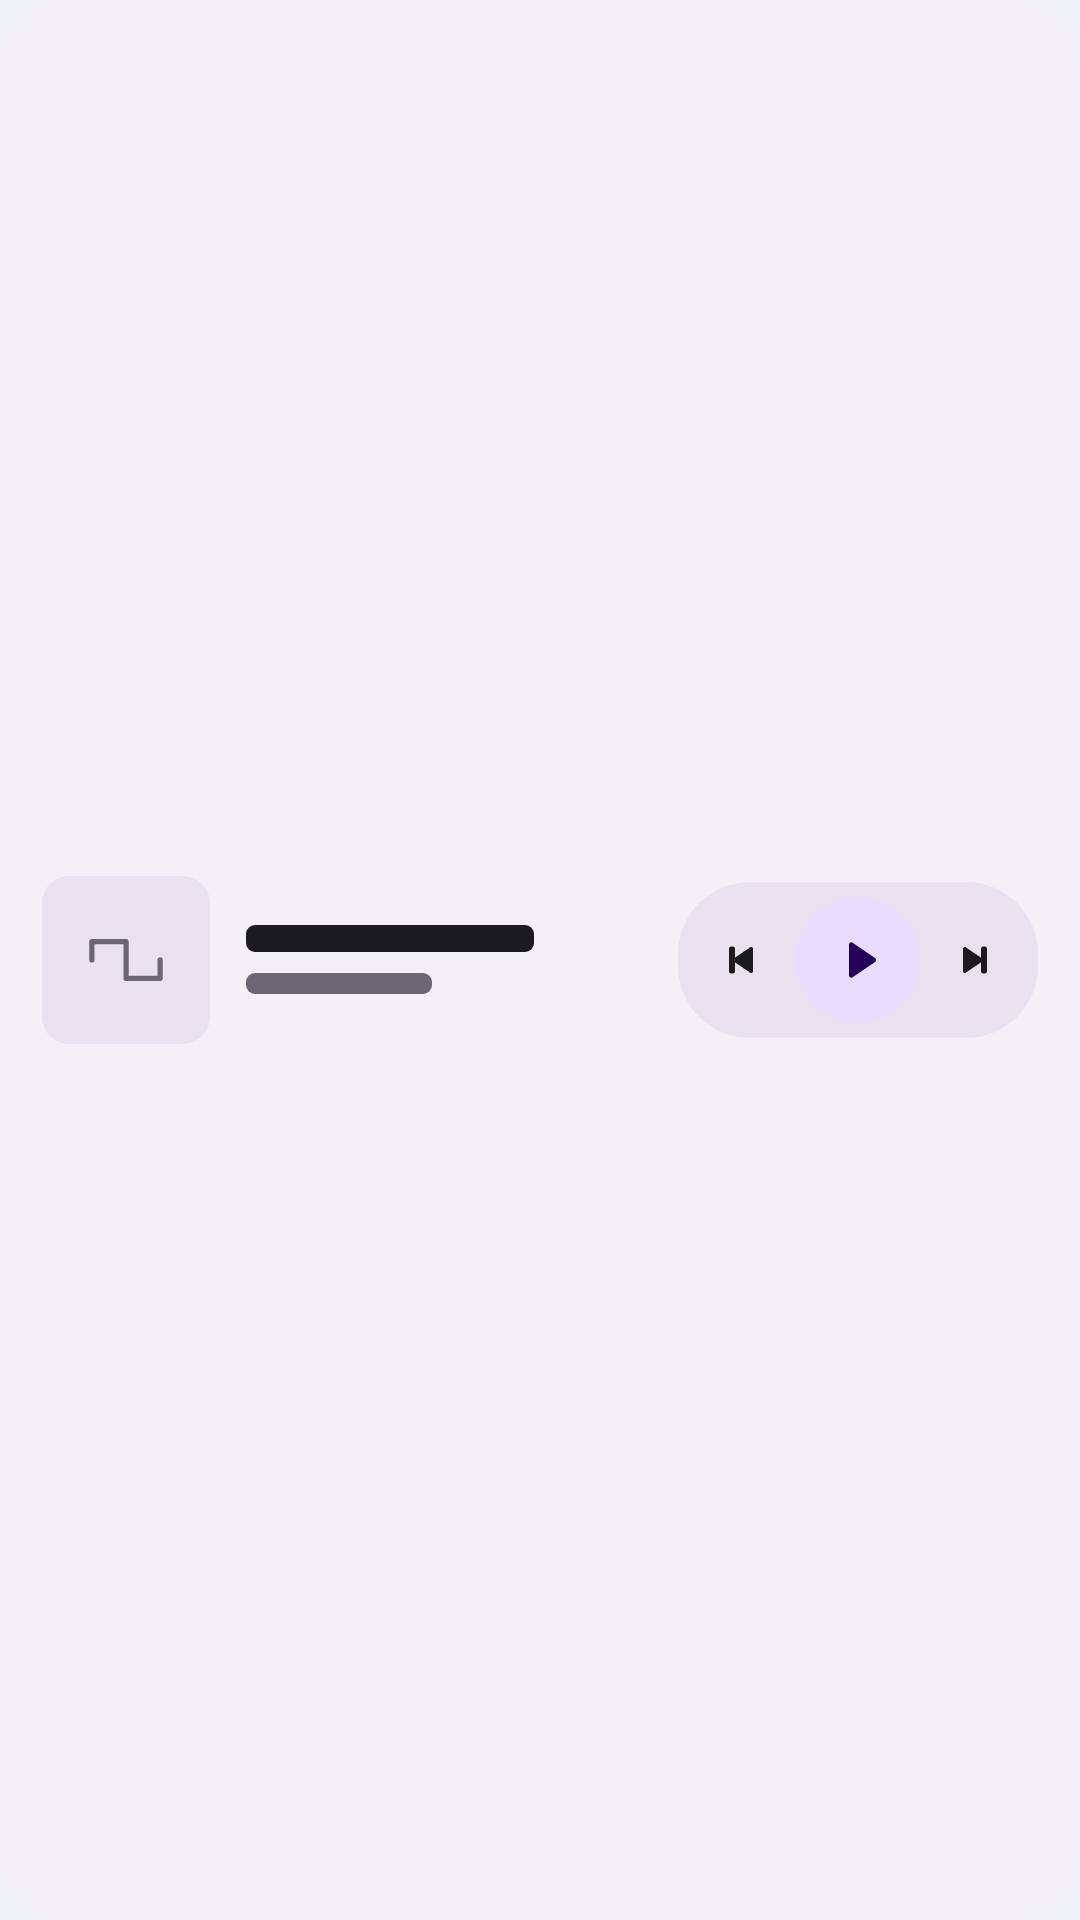

Named icons in this screenshot (1080 × 1920) and their bounding boxes, {"x1": x1, "y1": y1, "x2": x2, "y2": y2}:
widget next: {"x1": 963, "y1": 946, "x2": 987, "y2": 974}
widget play: {"x1": 849, "y1": 942, "x2": 876, "y2": 978}
widget previous: {"x1": 729, "y1": 946, "x2": 753, "y2": 974}
